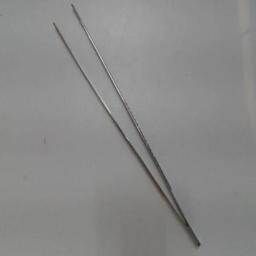DeBakey Dissector: (49, 0, 207, 254)
